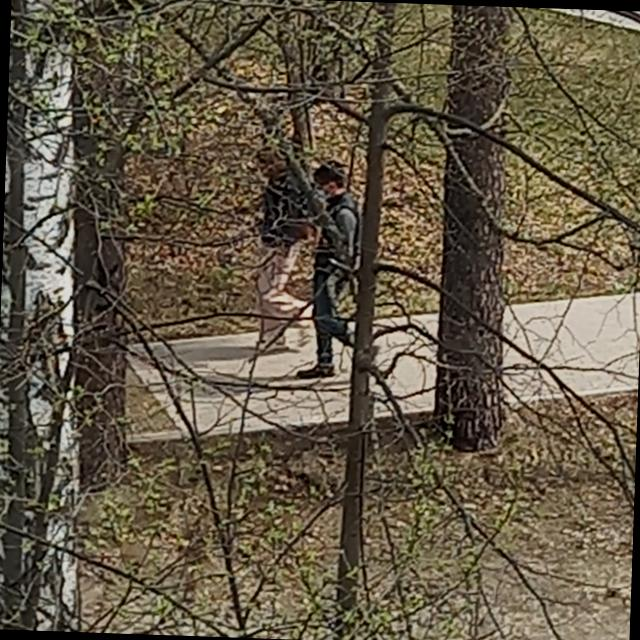person: (295, 159, 364, 381), (250, 146, 322, 357)
